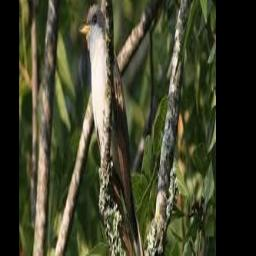Cuckoo: (78, 4, 145, 256)
